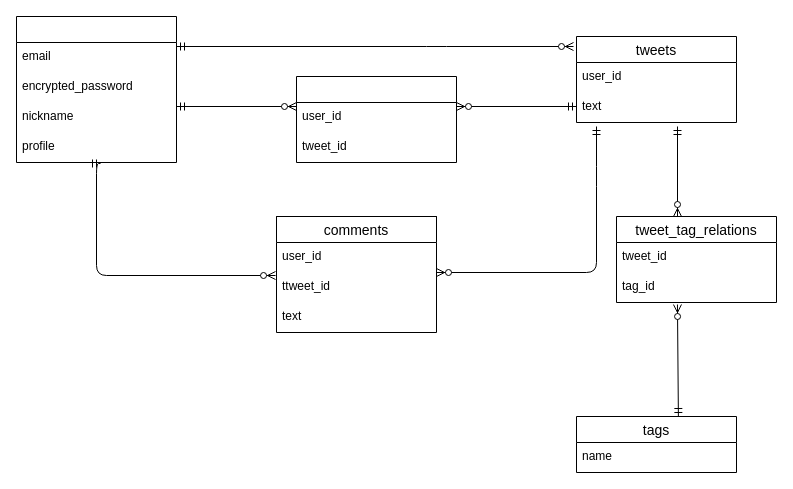
The diagram is 793 pixels wide and 489 high, and some of its shapes have lost their labels. Here are the shapes that lost their labels. From the top down, the box of each, then its label:
(16, 16, 176, 162): users
(296, 76, 456, 162): likes
